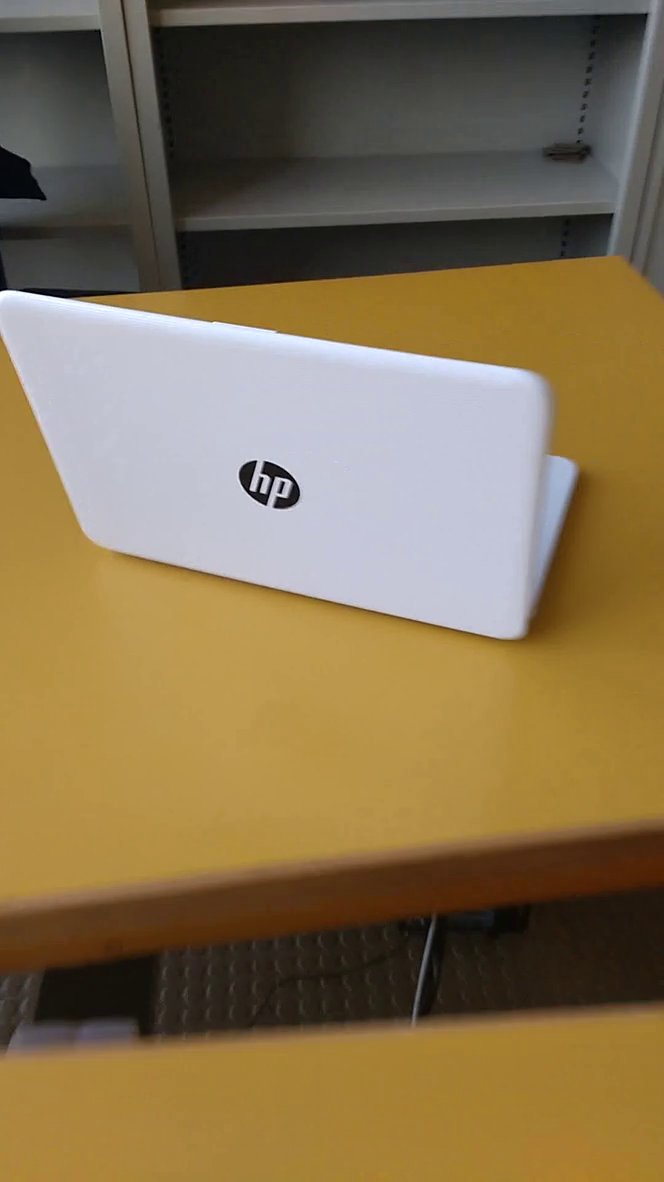laptop: (1, 276, 593, 663)
